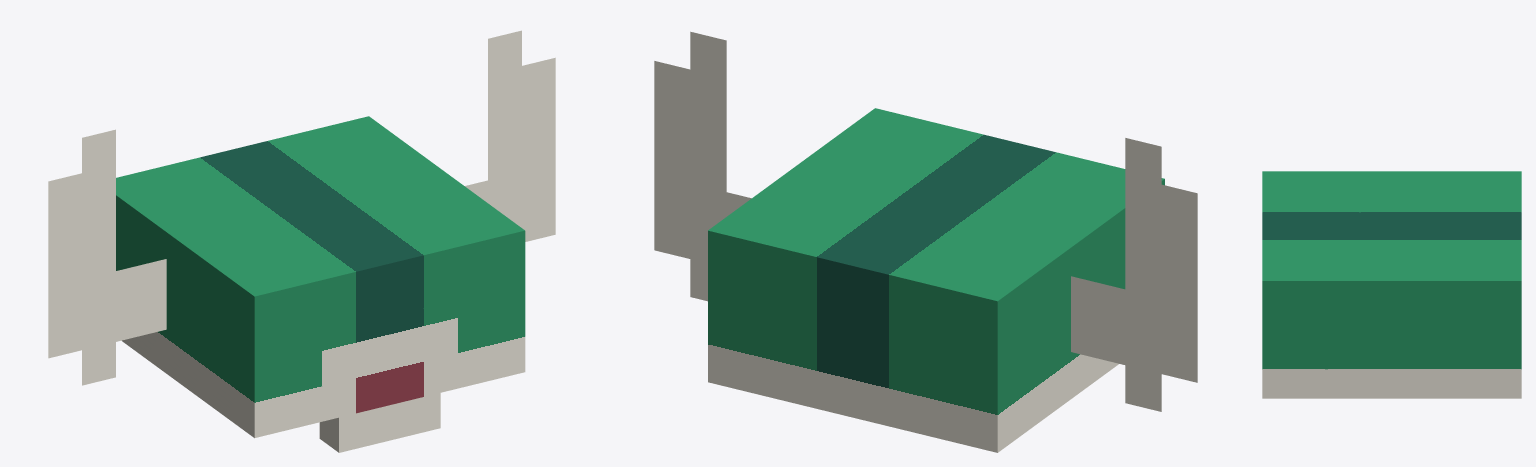
Rendered from helmet_guardian.fbx.
3 views of the same model, side by side, from view 1: azimuth 30°, elevation 25°; view 2: azimuth 150°, elevation 25°; view 3: azimuth 270°, elevation 25° (orthographic). The views are drawn at different scales.
Parts seen in each view (by area): view 1: hat, horn.001, horn, hat.001; view 2: hat, horn.001, horn; view 3: hat.
Part boxes in pixels (left/top/right/bottom): hat: left=116, top=116, right=525, bottom=438; horn.001: left=48, top=129, right=166, bottom=385; horn: left=465, top=30, right=555, bottom=241; hat.001: left=319, top=393, right=440, bottom=452; hat: left=708, top=108, right=1164, bottom=452; horn.001: left=1071, top=138, right=1197, bottom=411; horn: left=654, top=31, right=751, bottom=301; hat: left=1262, top=171, right=1521, bottom=398.
Bounding box in the file's own units: 106 × 51.56 × 50.
Materials: 1 (1 with a texture image).
